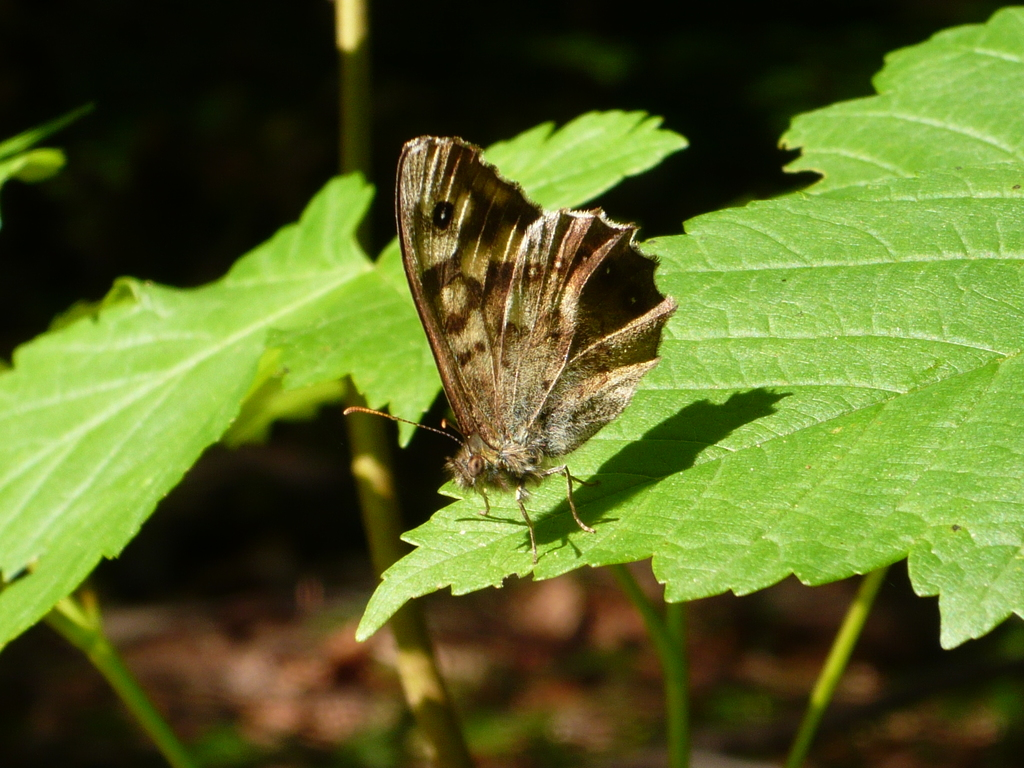Butterfly: (342, 100, 682, 545)
